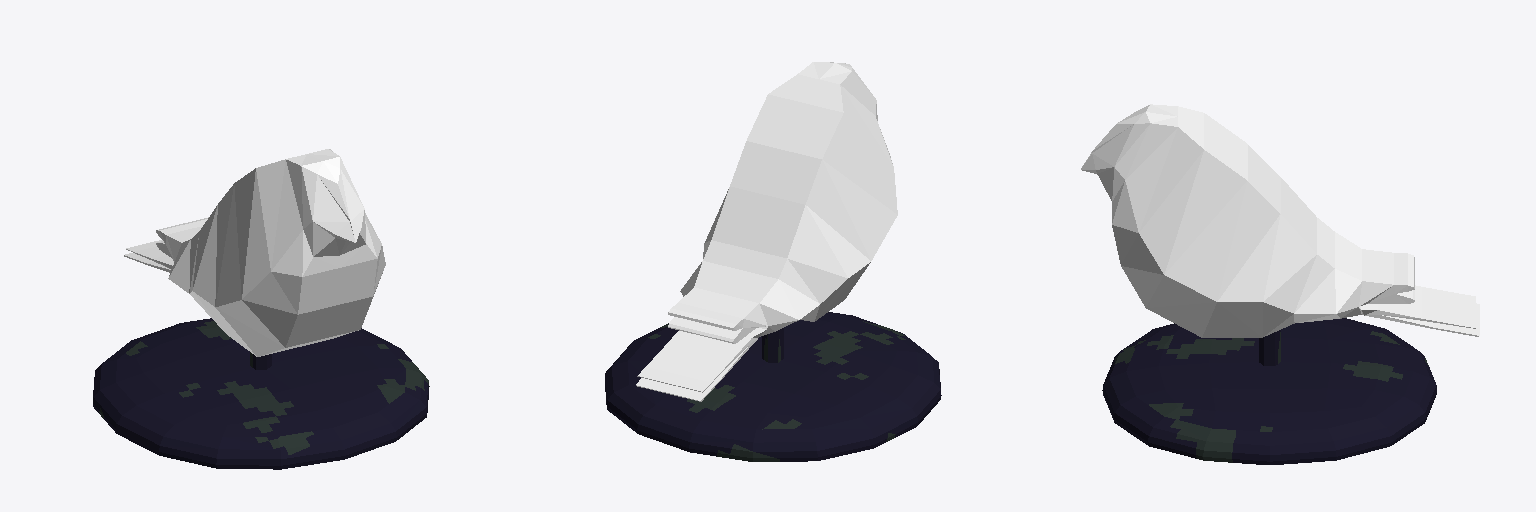
3 renders of one model, left to right at view 1: azimuth 30°, elevation 25°; view 2: azimuth 150°, elevation 25°; view 3: azimuth 270°, elevation 25°, orthographic.
Visible parts, largest first — view 1: Base_of_Statue, Swallow_Statue; view 2: Swallow_Statue, Base_of_Statue, Base_Stem_of_Statue; view 3: Swallow_Statue, Base_of_Statue, Base_Stem_of_Statue.
Boxes of the visible parts, x1,y1,x2,y2 form: Base_of_Statue: [93, 318, 429, 469]; Swallow_Statue: [124, 149, 385, 356]; Swallow_Statue: [636, 62, 897, 401]; Base_of_Statue: [605, 312, 941, 461]; Base_Stem_of_Statue: [762, 328, 783, 362]; Swallow_Statue: [1081, 104, 1479, 337]; Base_of_Statue: [1102, 318, 1436, 464]; Base_Stem_of_Statue: [1259, 330, 1280, 365].
Size of the model in its own units: 0.9167 by 0.8697 by 1.09.
Materials: 2 (1 with a texture image).